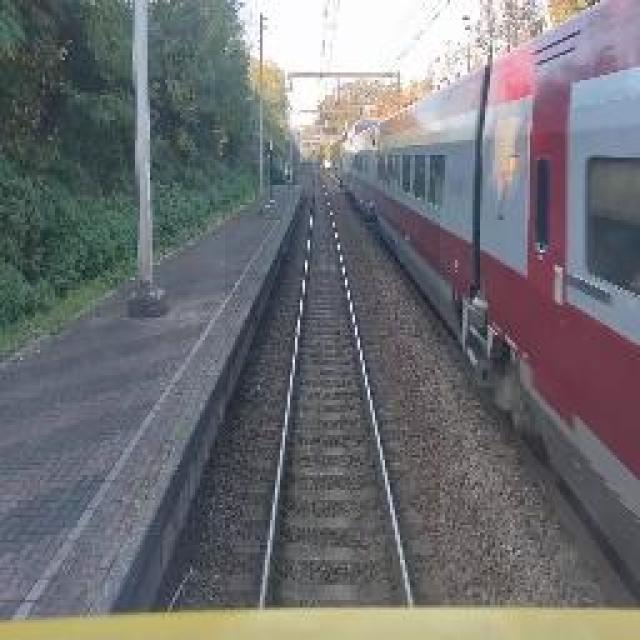rail: (226, 165, 441, 609)
